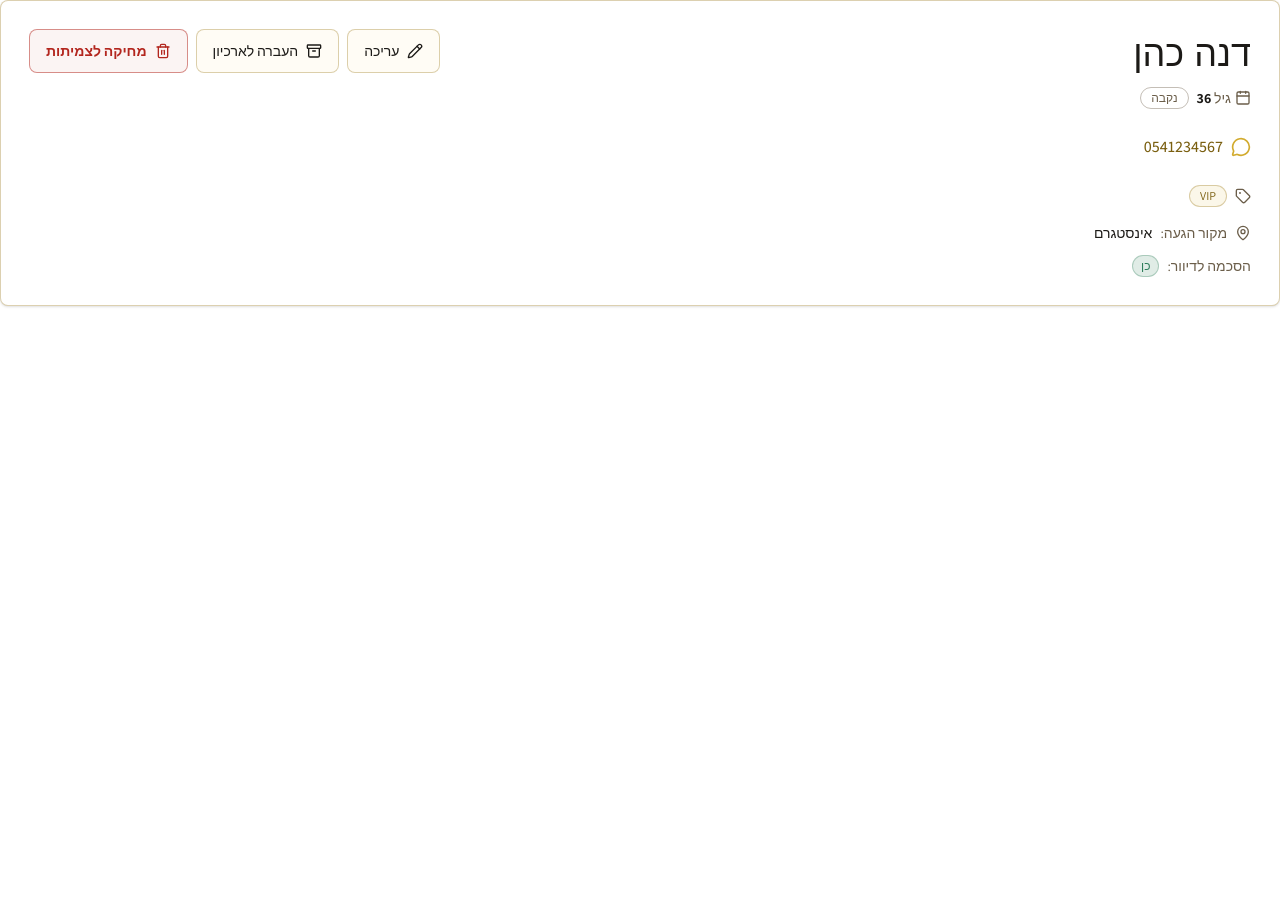
EditClientDialog — שמירה ללא שינוי › שמירה ללא שינוי כלל אינה שולחת בקשת רשת
What coordinates should you click on to do the following:
click the button "עריכה"
I would click on:
 (394, 51)
Its box is x1=347 y1=29 x2=440 y2=73.
(page scrolled)
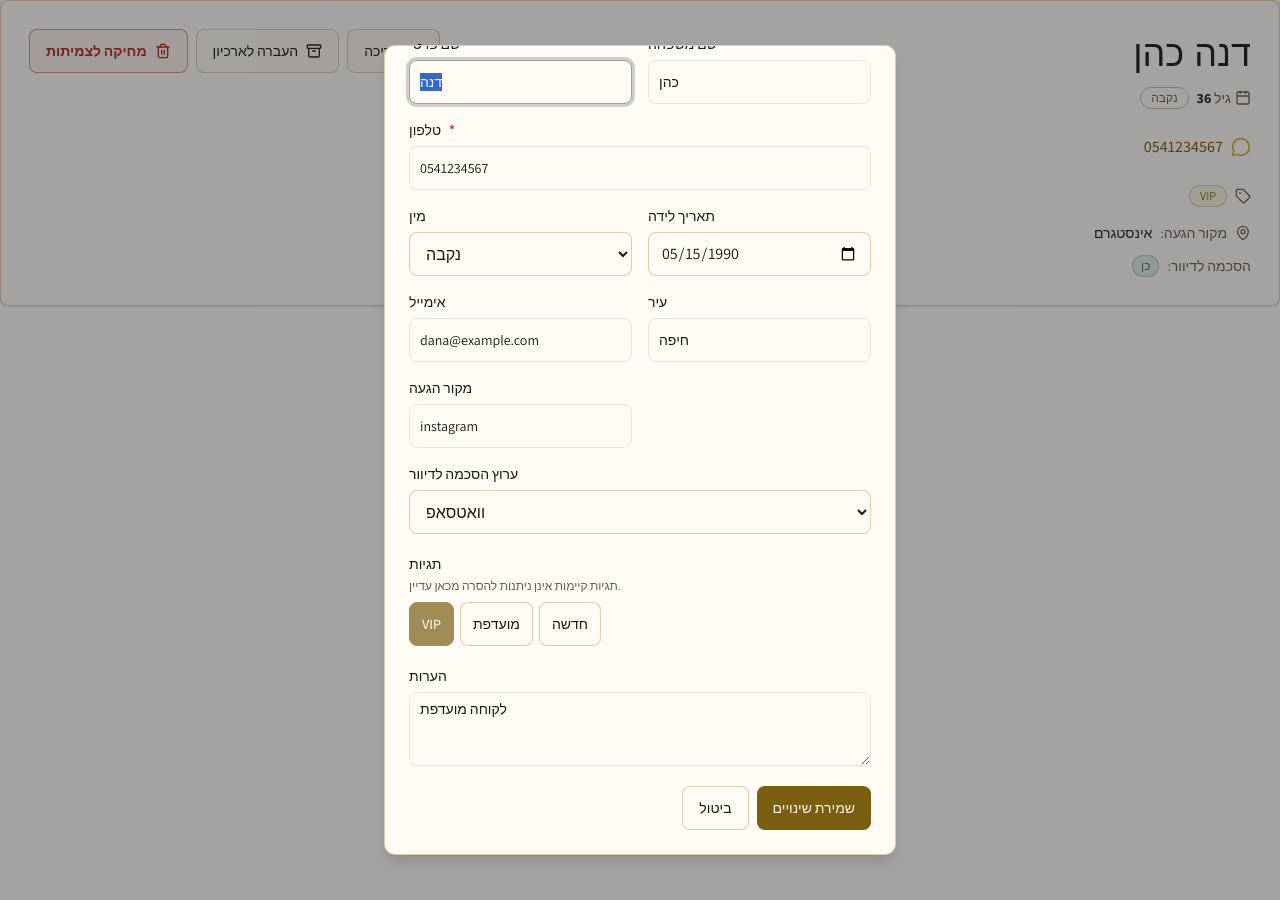
What coordinates should you click on to do the following:
click the button "שמירת שינויים"
I would click on:
 (814, 808)
Its box is x1=756 y1=786 x2=871 y2=830.
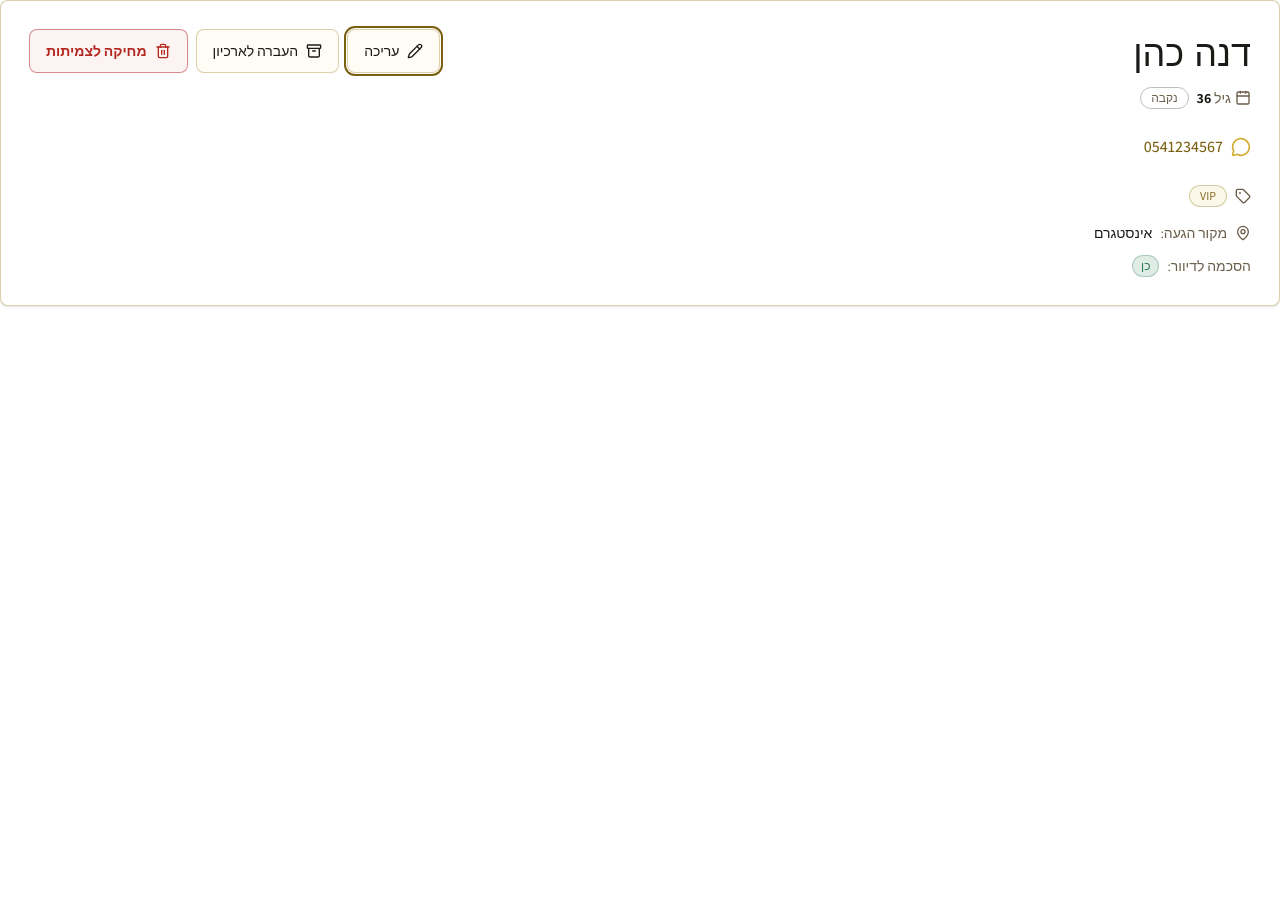
Expected: the dialog is gone
